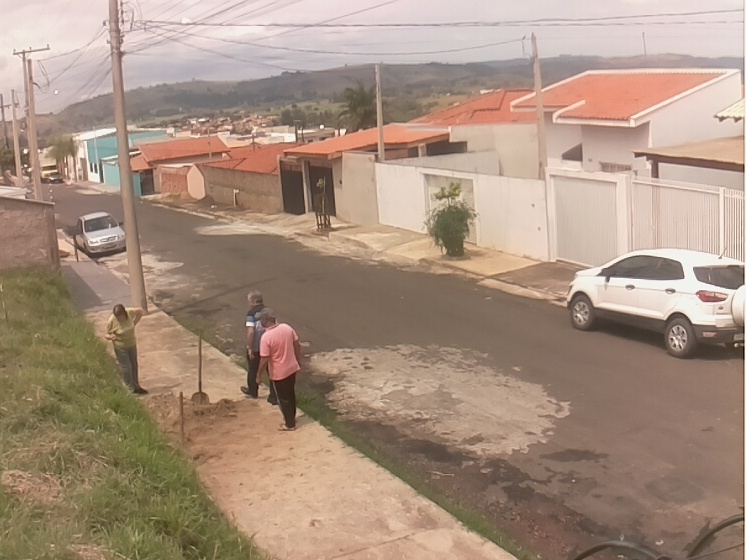person: (253, 309, 303, 431), (105, 303, 149, 394), (241, 290, 275, 395)
